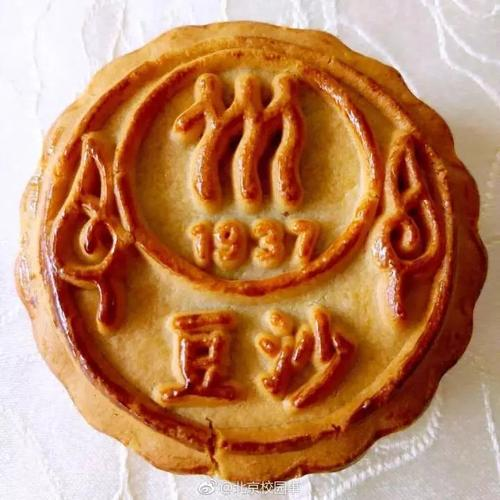MoonCake: (13, 21, 489, 491)
